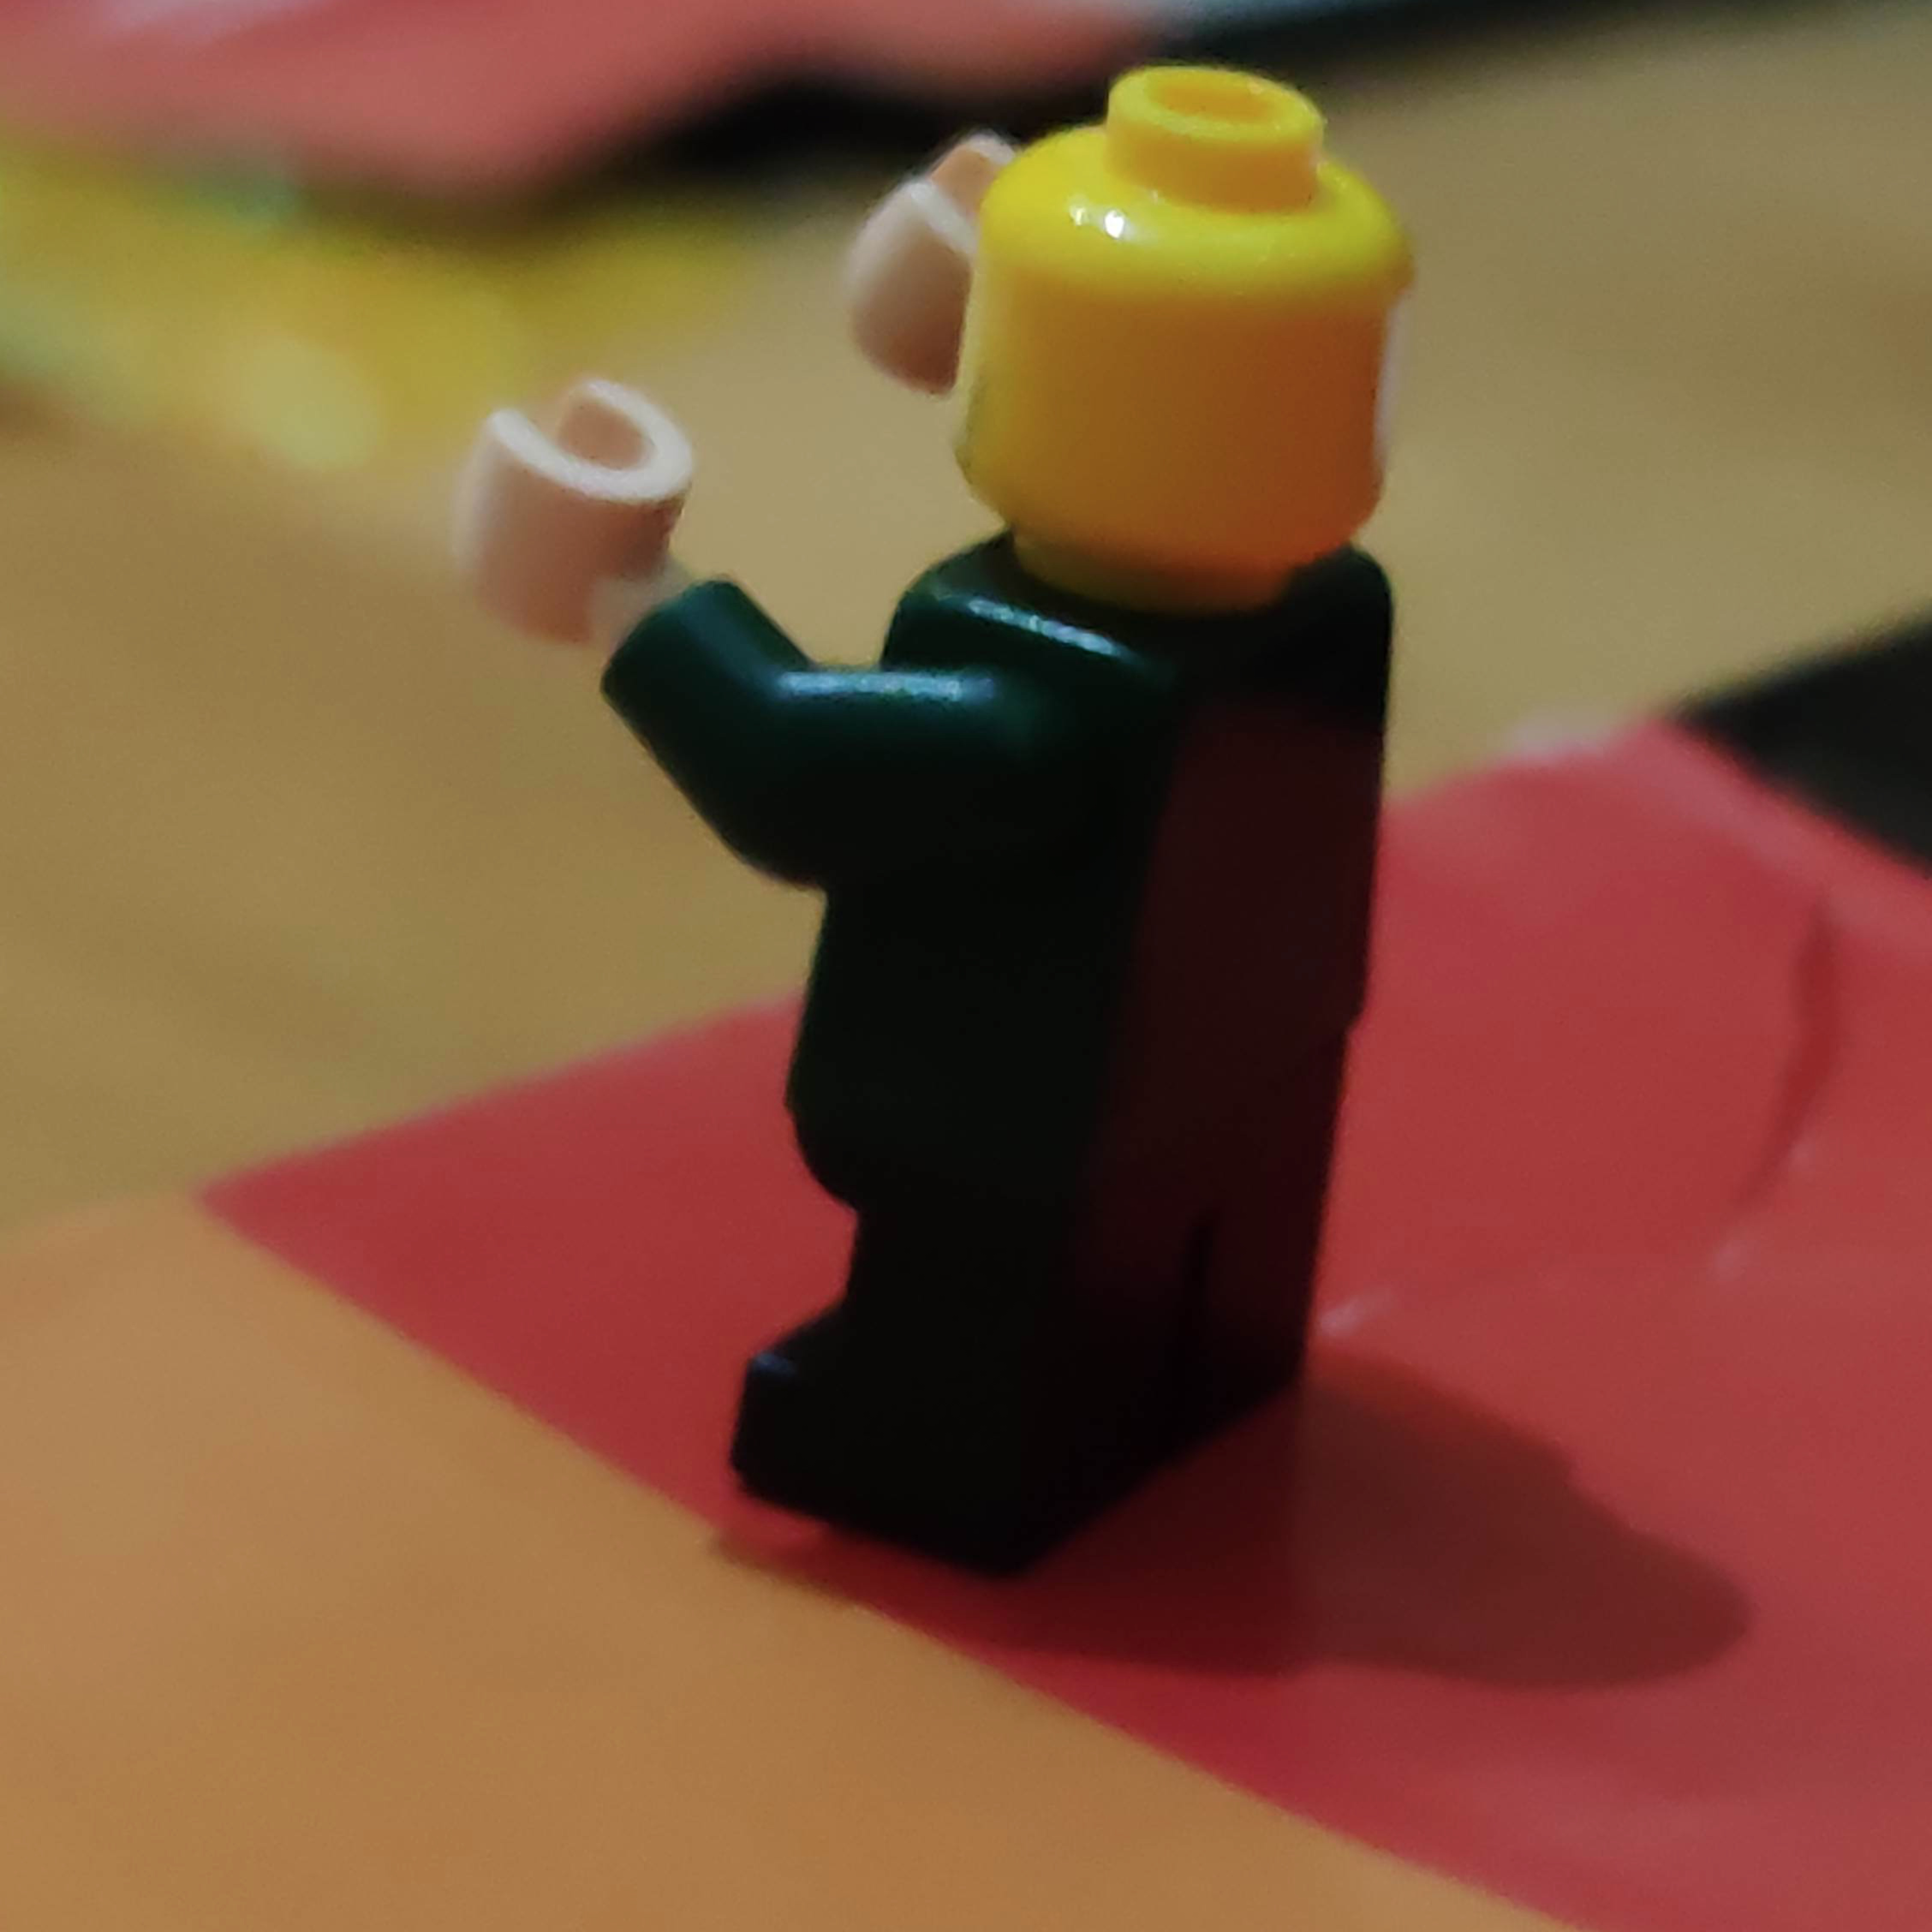lego: (455, 65, 1426, 1578)
